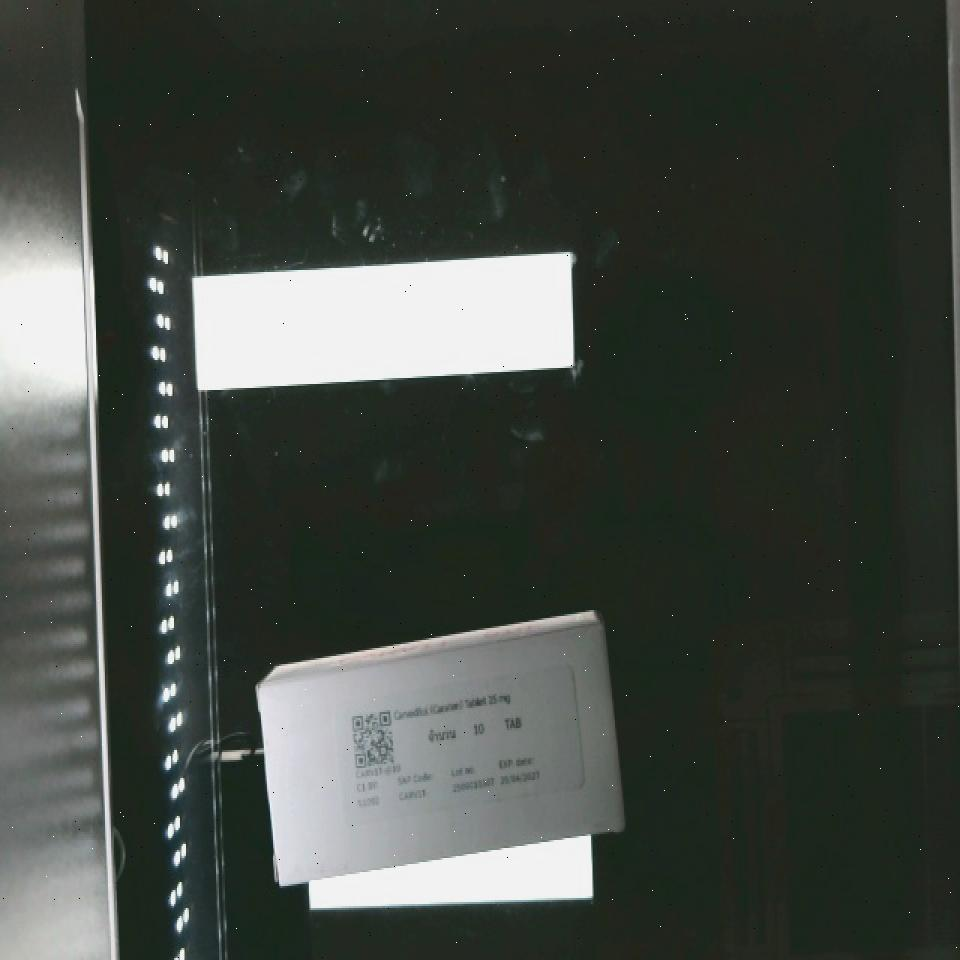medicine_box: (248, 620, 639, 885)
qr_code: (339, 699, 405, 781)
